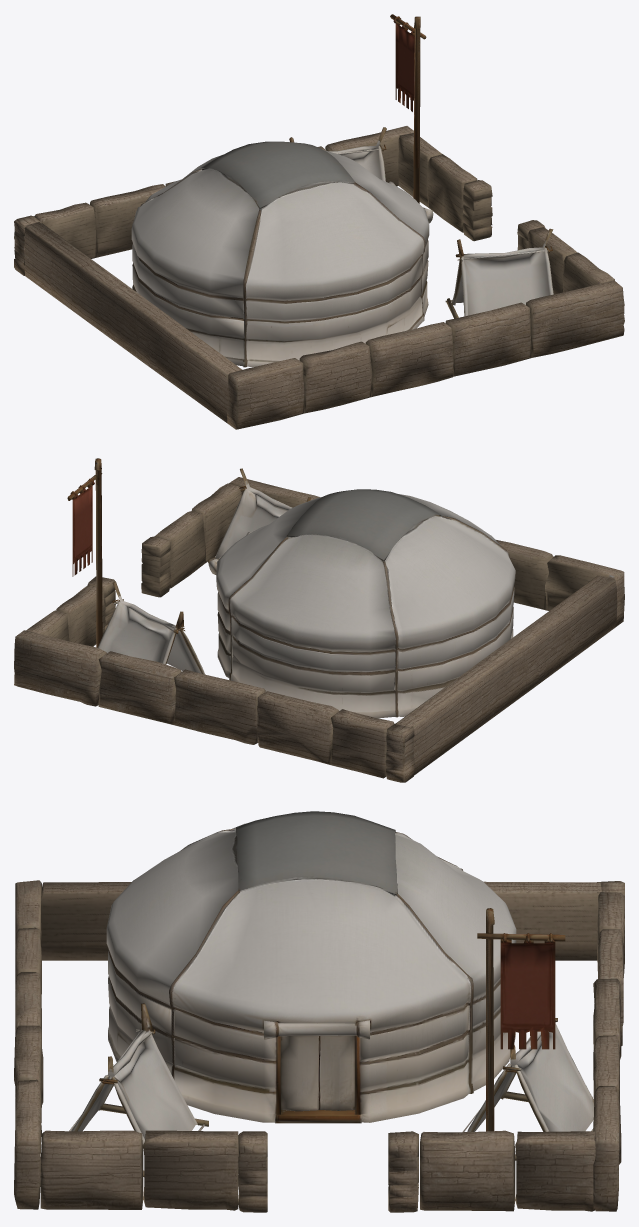
File: model_barrack_polish.fbx
3 renders of one model, top to bottom at view 1: azimuth 30°, elevation 25°; view 2: azimuth 150°, elevation 25°; view 3: azimuth 270°, elevation 25°, orthographic. The views are drawn at different scales.
Visible parts, largest first — view 1: tripo_node_1b833f2b; view 2: tripo_node_1b833f2b; view 3: tripo_node_1b833f2b.
Boxes of the visible parts, <box> form: tripo_node_1b833f2b: <box>14,14,624,429</box>; tripo_node_1b833f2b: <box>14,458,624,782</box>; tripo_node_1b833f2b: <box>14,811,624,1212</box>.
Bounding box in the file's own units: 0.998 × 0.4902 × 0.9785.
